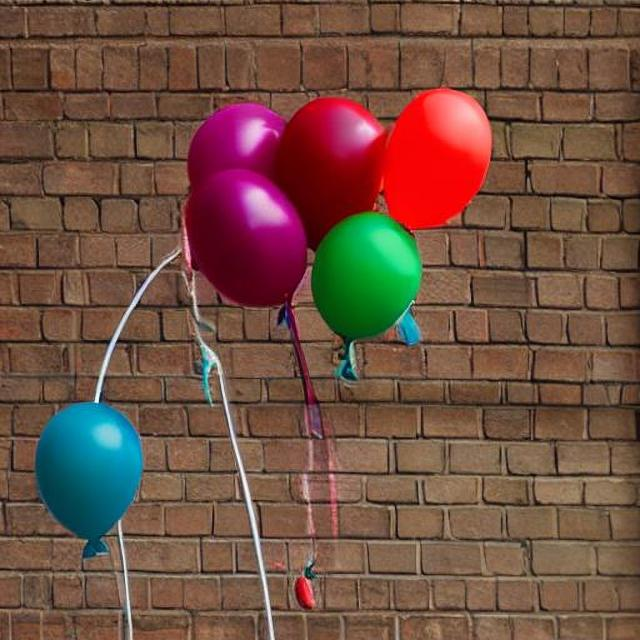balloon: (156, 82, 515, 355), (27, 398, 144, 554)
